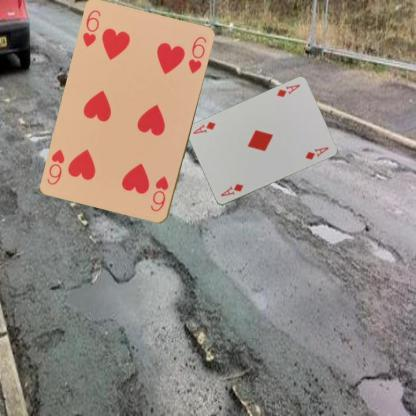6h: (80, 7, 102, 48), (148, 174, 170, 214)
Ad: (274, 82, 301, 99), (218, 182, 244, 198)
